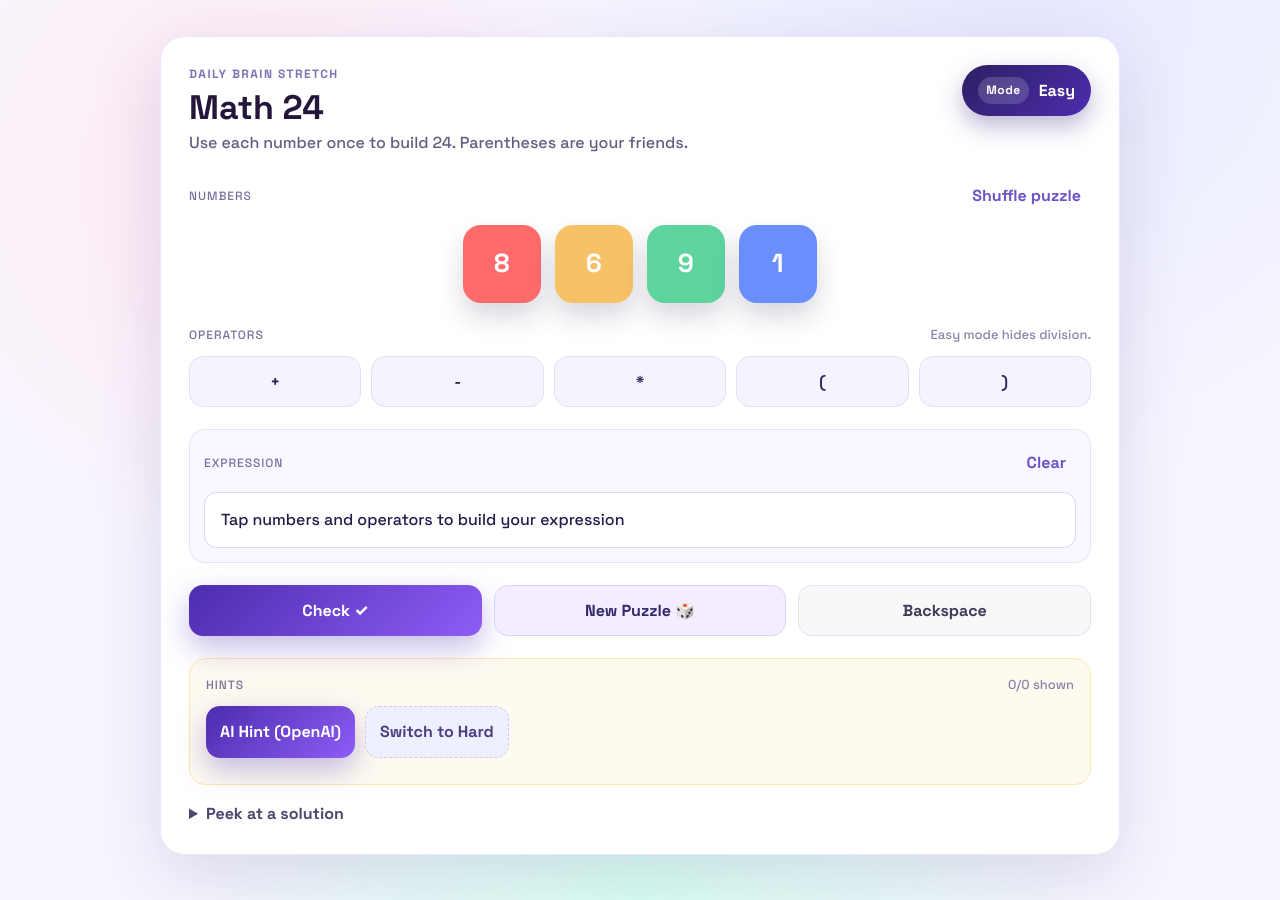
Test: Math24Game › Operator Input › handles parentheses
What coordinates should you click on to do the following:
click the button named "Add ("
I would click on:
 (822, 382)
Its box is [736,356,909,408].
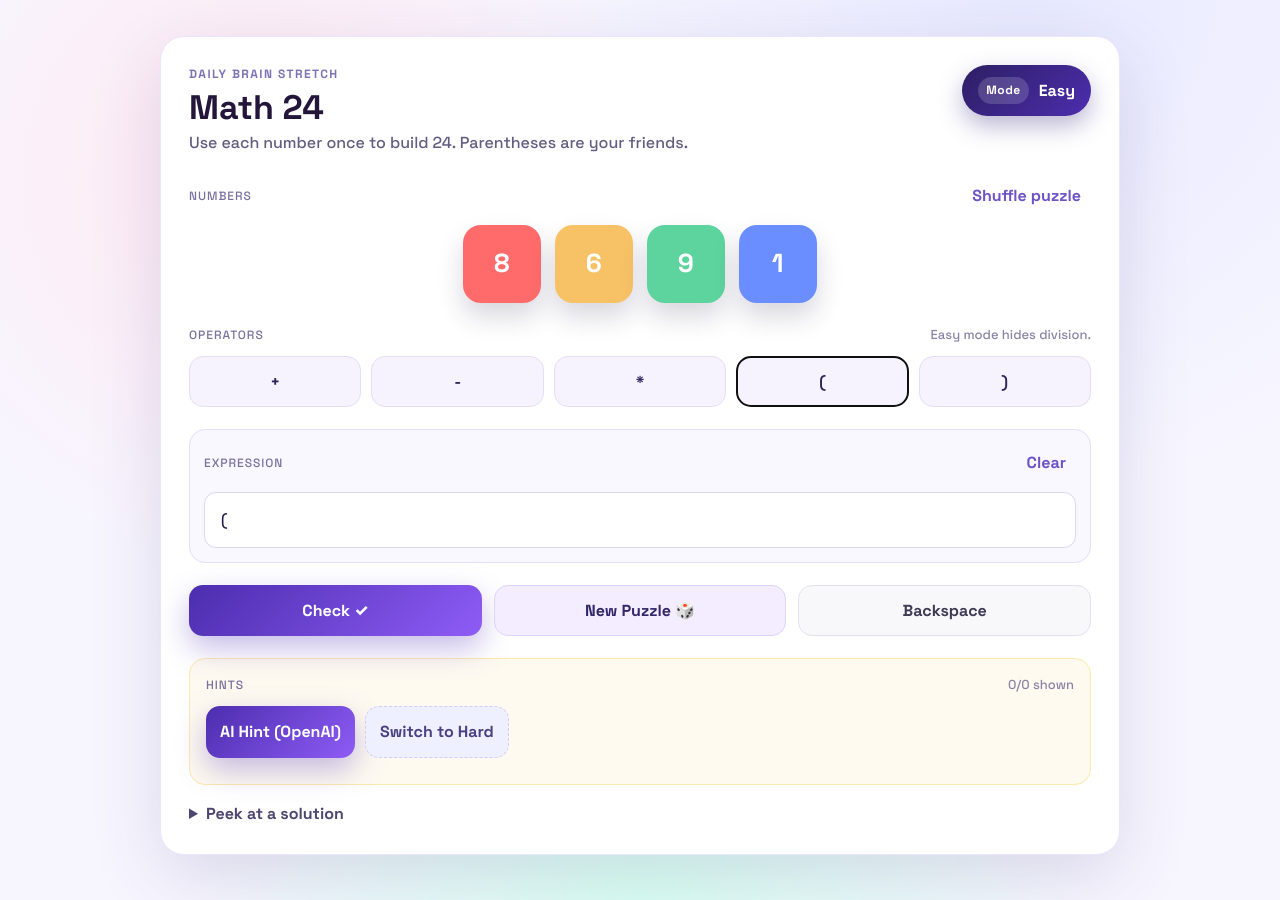
Expected: the text with class "expression" reads "(", [221,509,227,530]
